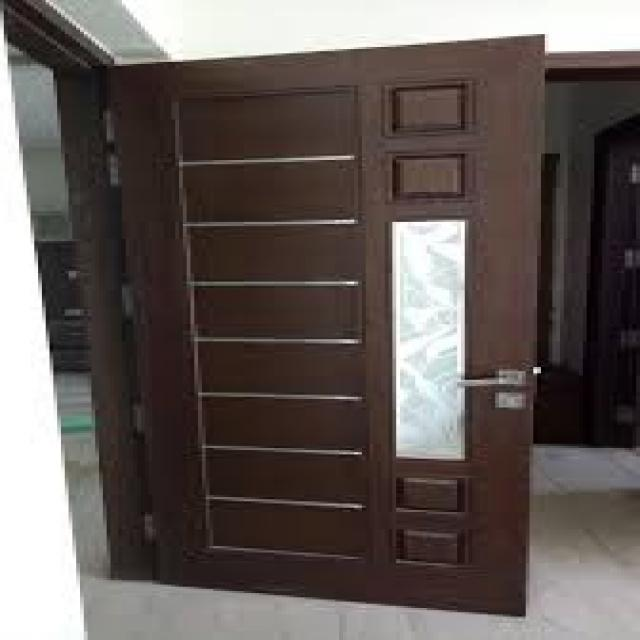Door: (103, 60, 541, 606)
